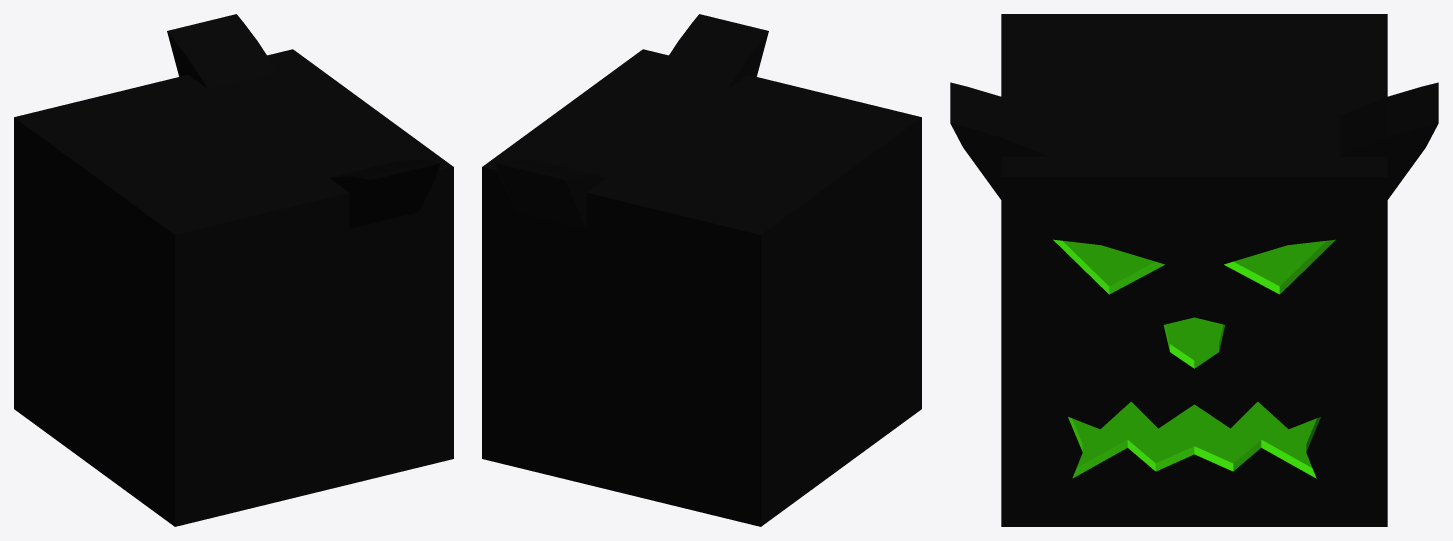
The model's file is Boss.fbx.
The picture shows the model from 3 angles, left to right: view 1: azimuth 30°, elevation 25°; view 2: azimuth 150°, elevation 25°; view 3: azimuth 270°, elevation 25°; orthographic projection. The views are drawn at different scales.
Parts seen in each view (by area): view 1: Cube; view 2: Cube; view 3: Cube.
Part boxes in pixels (<box>): Cube: <box>14,14,453,526</box>; Cube: <box>482,14,921,526</box>; Cube: <box>950,14,1438,526</box>.
Size of the model in its own units: 200 by 219 by 253.
